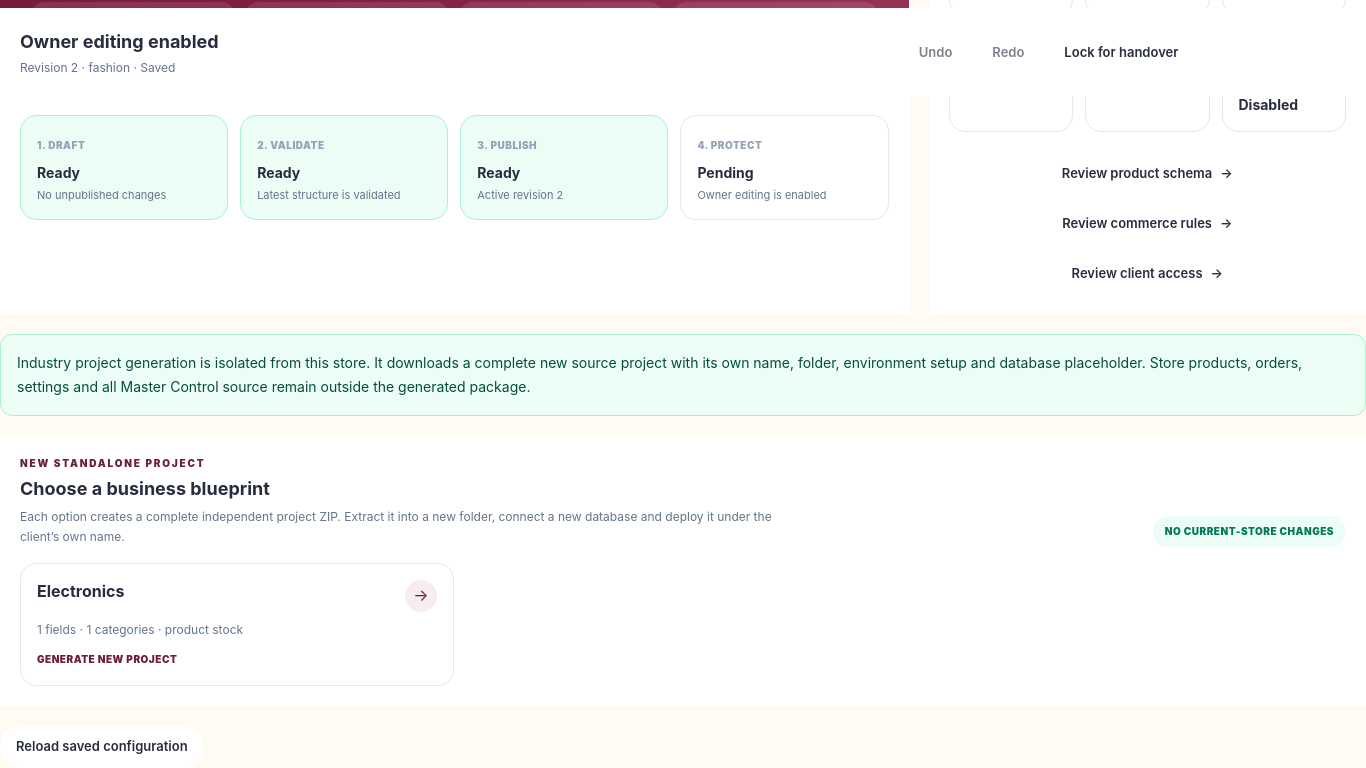
it: industry choice opens an isolated project builder and never changes the active structure
This screenshot has width=1366, height=768.
(page scrolled)
What coordinates should you click on to do the following:
click the button "Electronics"
I would click on:
 (237, 624)
Its box is [20, 563, 454, 686].
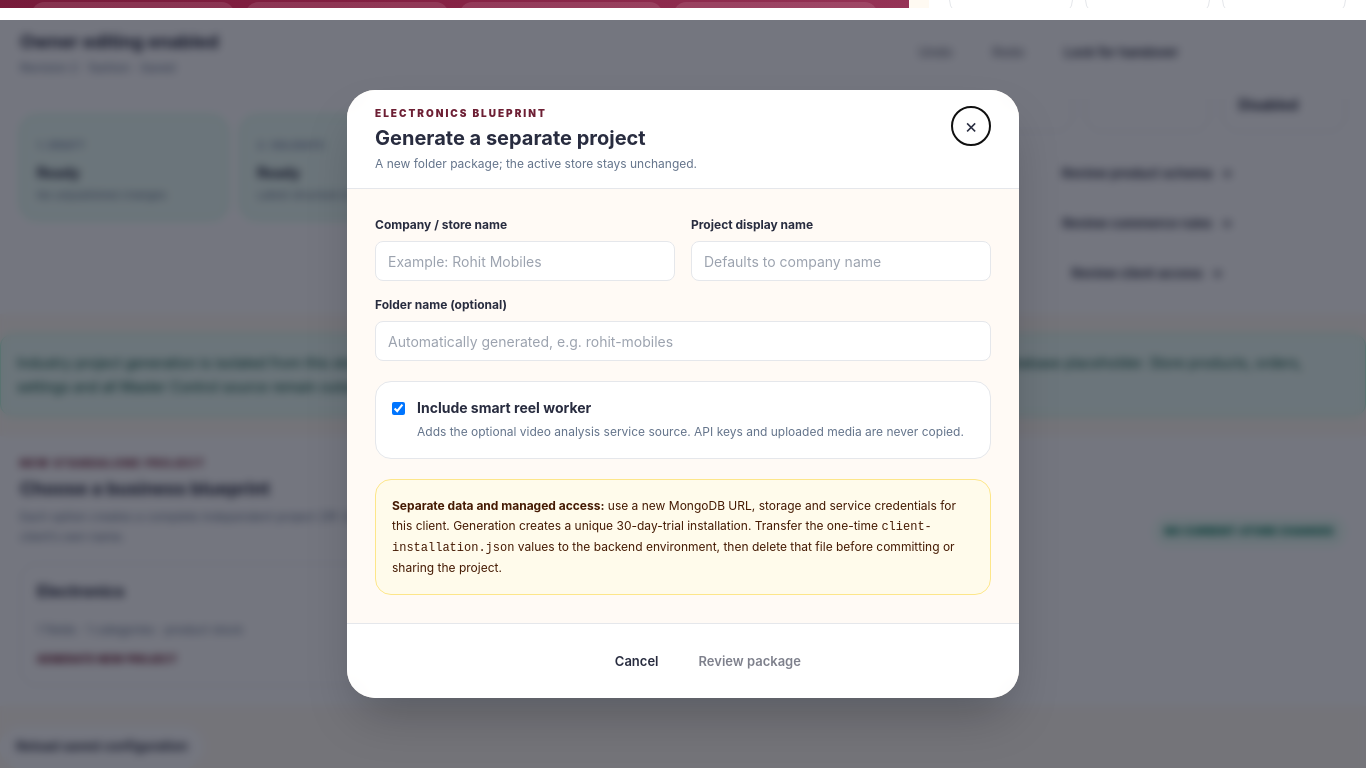
Expected: the dialog "Generate a separate project" is shown, [347, 90, 1019, 698]
Expected: the text "Electronics blueprint" is shown, [375, 107, 547, 119]
